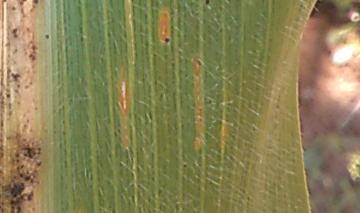tarspot: (9, 182, 26, 198), (21, 146, 33, 159), (10, 26, 20, 40), (10, 72, 21, 82), (250, 123, 258, 134), (15, 204, 24, 213), (163, 36, 170, 45), (196, 58, 203, 67), (157, 92, 164, 101), (8, 198, 15, 206), (22, 174, 30, 181), (19, 1, 29, 6), (44, 33, 51, 40), (112, 130, 119, 137), (206, 98, 212, 106), (182, 163, 188, 170), (10, 5, 17, 11), (203, 1, 211, 6), (218, 26, 223, 34), (116, 127, 121, 134), (32, 1, 38, 6), (18, 171, 23, 177), (1, 1, 8, 3)
